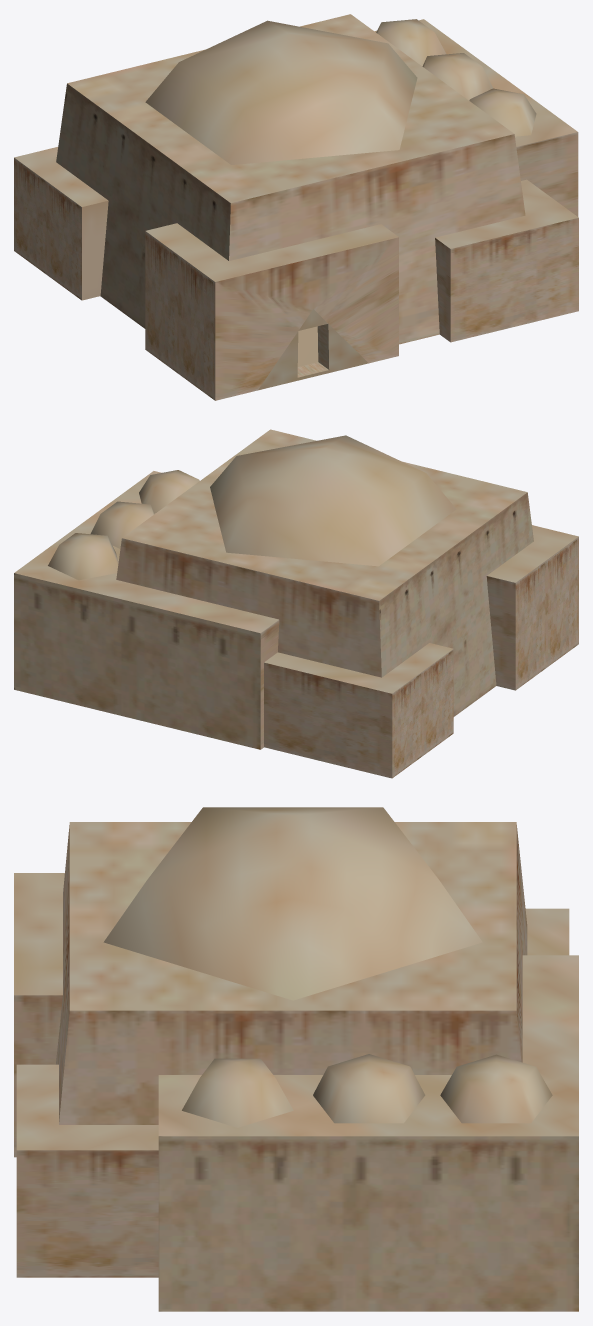
File: thm_tato_imprv_building_s05_r0_mesh_l3.fbx
3 renders of one model, top to bottom at view 1: azimuth 30°, elevation 25°; view 2: azimuth 150°, elevation 25°; view 3: azimuth 270°, elevation 25°, orthographic. The views are drawn at different scales.
Visible parts, largest first — view 1: mesh_node; view 2: mesh_node; view 3: mesh_node.
Part boxes in pixels (x1,y1,x2,y2): mesh_node: (14,14,578,400); mesh_node: (14,429,578,778); mesh_node: (14,807,578,1311).
Bounding box in the file's own units: 28.18 × 16.02 × 24.31.
Materials: 1 (1 with a texture image).
